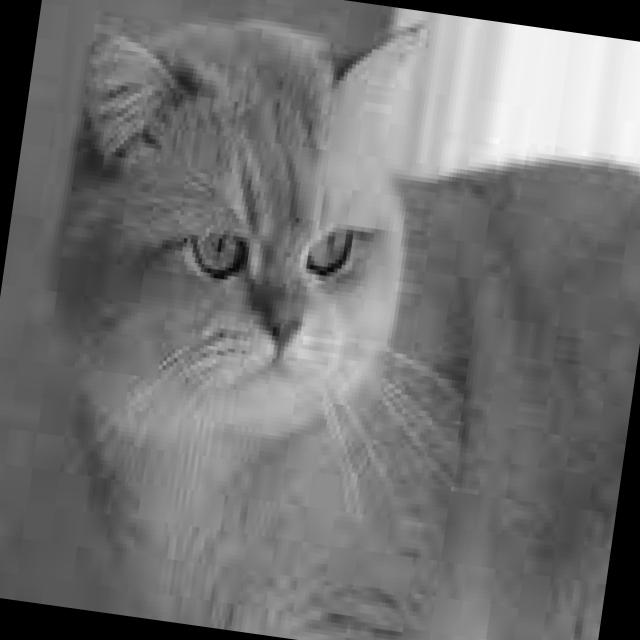british: (11, 0, 478, 472)
